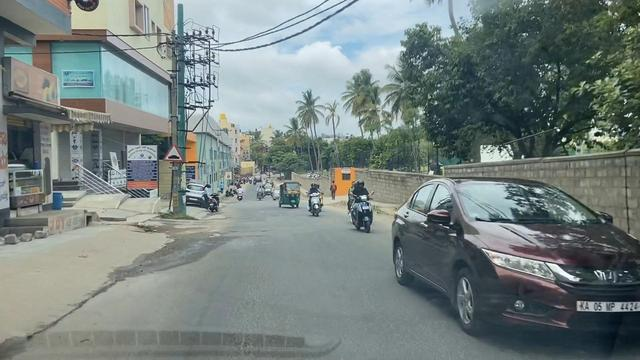LMV: (341, 175, 389, 252)
RoadDamages: (194, 225, 253, 266)
